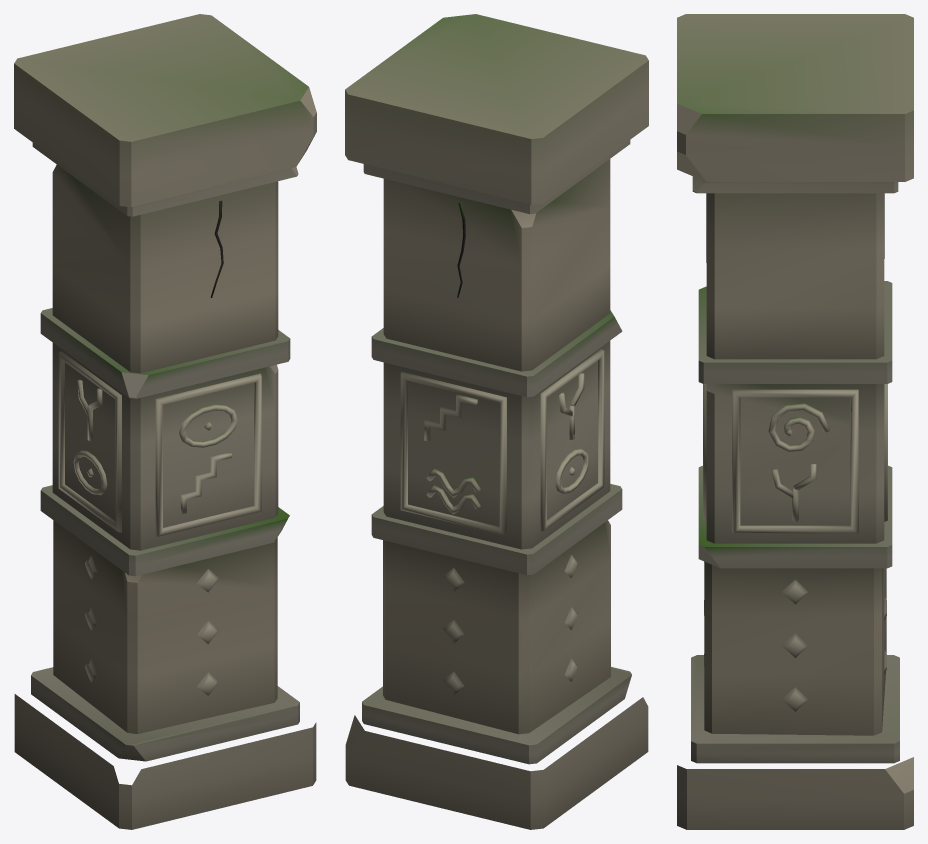
File: ruin_pillar.glb
The picture shows the model from 3 angles, left to right: view 1: azimuth 30°, elevation 25°; view 2: azimuth 150°, elevation 25°; view 3: azimuth 270°, elevation 25°; orthographic projection. The views are drawn at different scales.
Parts seen in each view (by area): view 1: ruin_pillar; view 2: ruin_pillar; view 3: ruin_pillar.
Boxes of the visible parts, <box> form: ruin_pillar: <box>14,14,316,829</box>; ruin_pillar: <box>345,14,648,829</box>; ruin_pillar: <box>677,14,913,829</box>.
Bounding box in the file's own units: 1.2 × 4 × 1.2.
